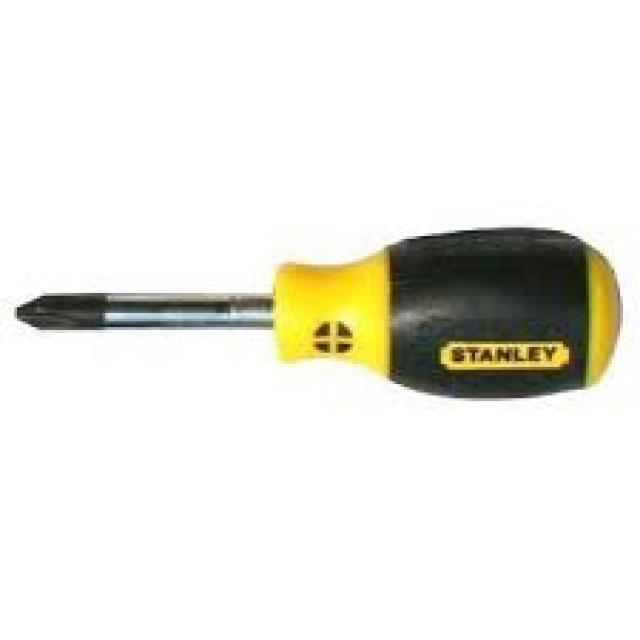screwdriver: (8, 226, 626, 400)
